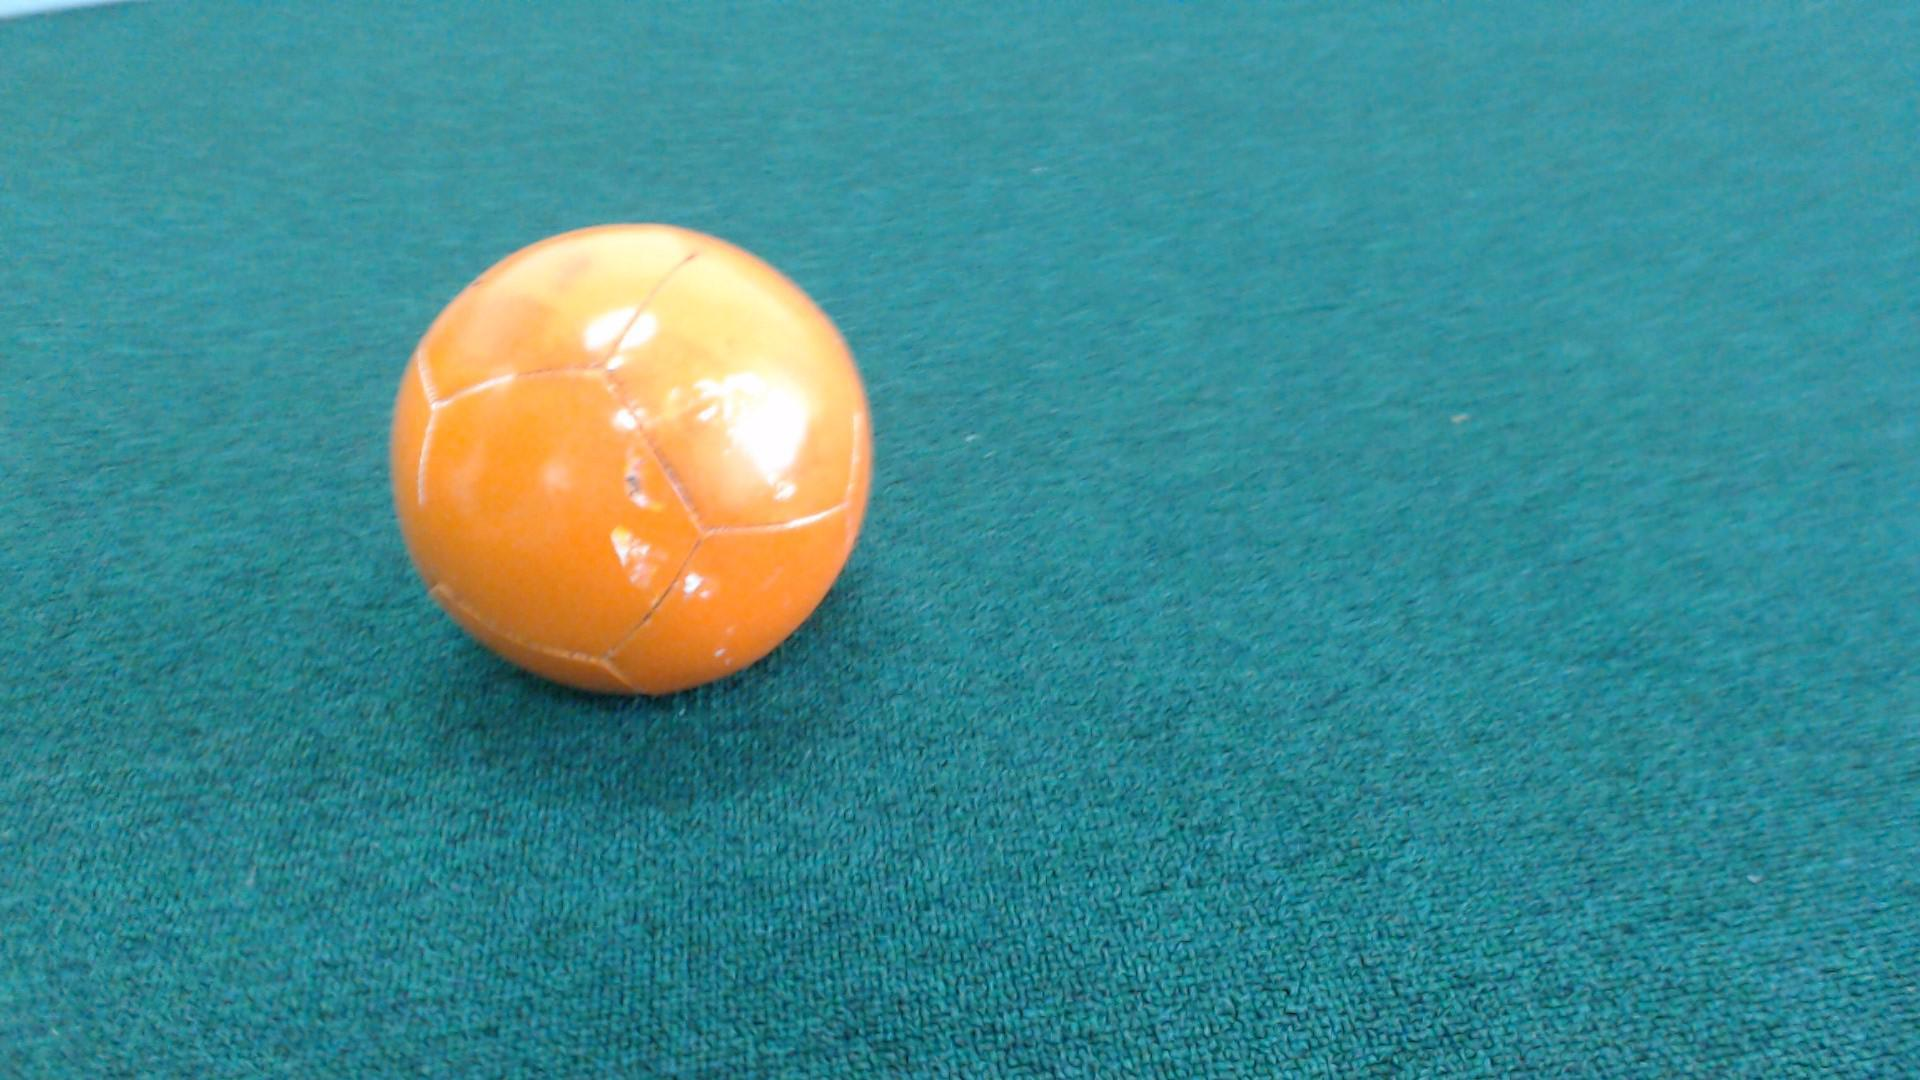bola: (347, 191, 924, 721)
